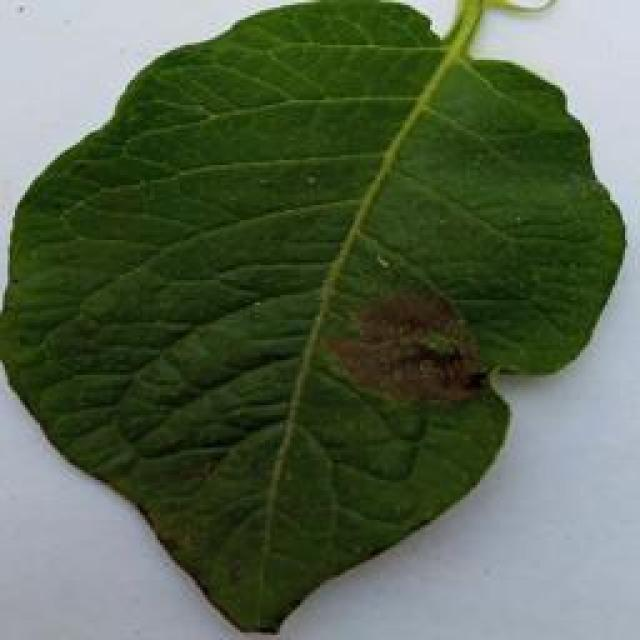Potato_Late_Blight: (6, 10, 628, 632)
